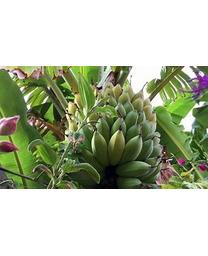banana: (75, 87, 162, 187)
